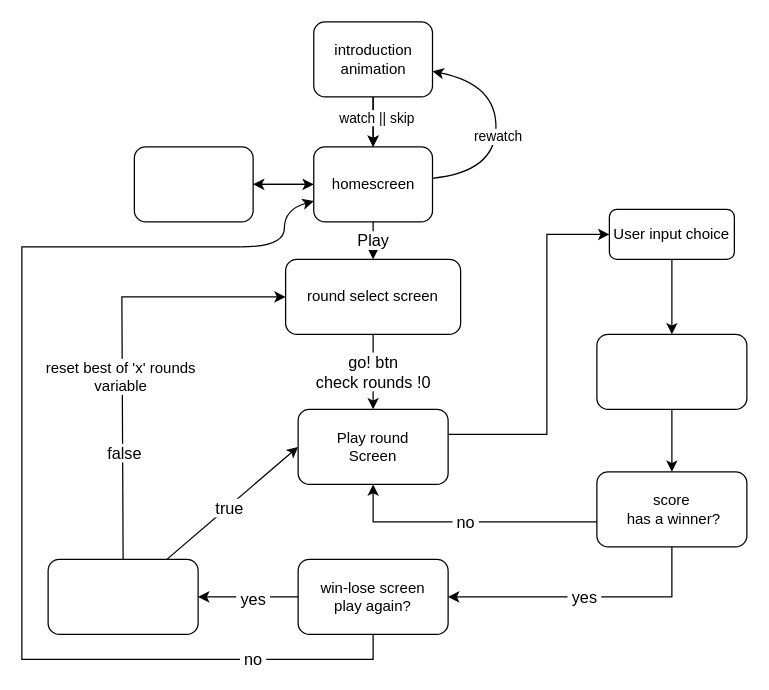
This 769x690 diagram has some shape labels left out. The shapes that lost their labels are listed below. From the top down, each one's box as (x1, y1, x2, y2) in pixels, then its label:
(133, 146, 253, 222): rules & history screen
(596, 333, 747, 409): get cpu choice check round winner update score
(47, 558, 198, 634): same amount of rounds? toggle
